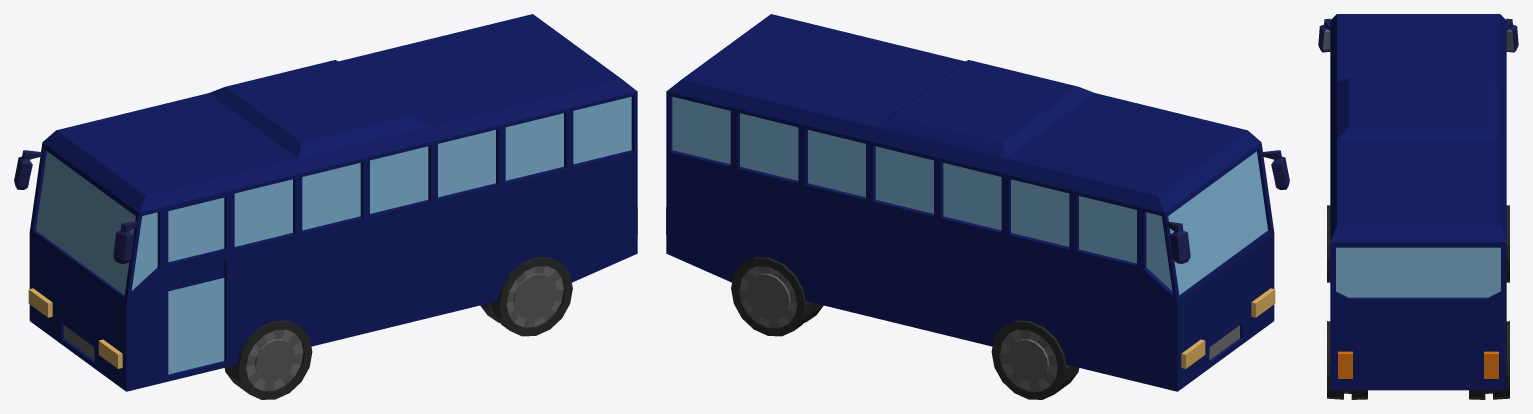
The model's file is bus.fbx.
3 views of the same model, side by side, from view 1: azimuth 30°, elevation 25°; view 2: azimuth 150°, elevation 25°; view 3: azimuth 270°, elevation 25° (orthographic). The views are drawn at different scales.
Parts seen in each view (by area): view 1: Cube, Cylinder, Cube.003, Cube.002; view 2: Cube, Cylinder, Cube.003, Cube.002; view 3: Cube, Cylinder, Cube.001, Cube.003.
Part boxes in pixels (<box>): Cube: <box>29,14,637,391</box>; Cylinder: <box>224,257,572,399</box>; Cube.003: <box>14,150,137,263</box>; Cube.002: <box>28,288,122,368</box>; Cube: <box>666,14,1274,391</box>; Cylinder: <box>731,257,1079,399</box>; Cube.003: <box>1166,150,1289,263</box>; Cube.002: <box>1181,288,1275,368</box>; Cube: <box>1330,14,1506,390</box>; Cylinder: <box>1327,205,1509,399</box>; Cube.001: <box>1338,351,1498,378</box>; Cube.003: <box>1318,18,1518,52</box>.
Size of the model in its own units: 630 by 273 by 227.
